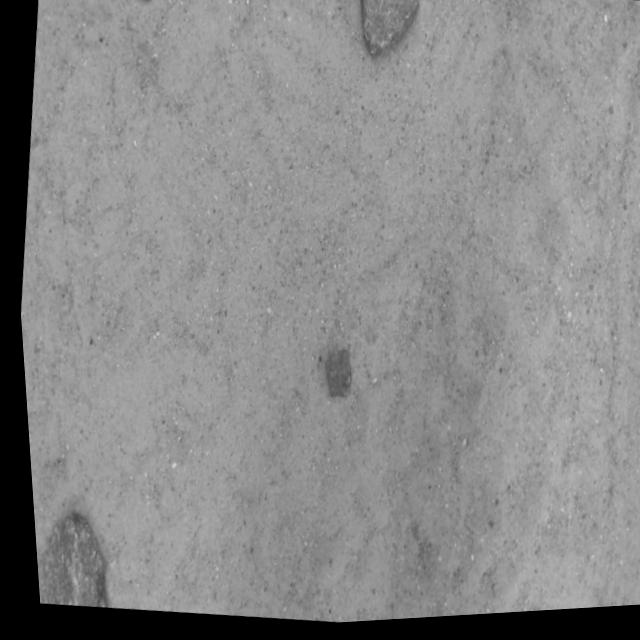rock: (31, 513, 96, 608), (360, 0, 418, 57), (319, 351, 343, 399)
